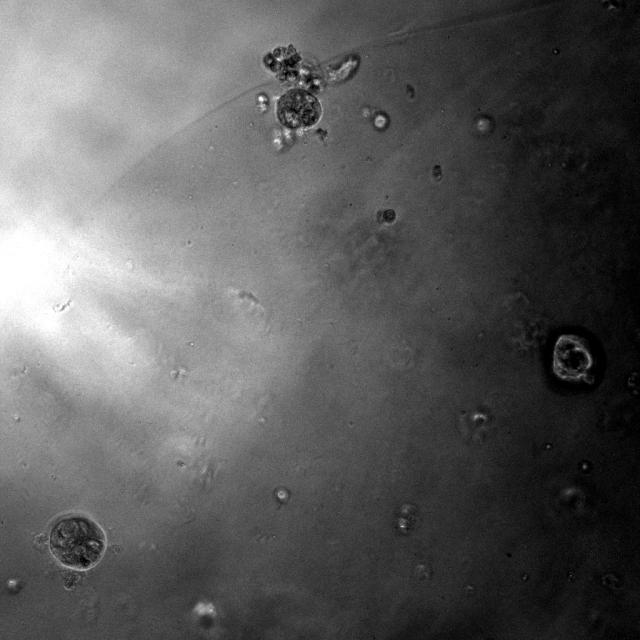organoid: (256, 44, 359, 150), (48, 513, 106, 589), (552, 334, 592, 385), (362, 109, 389, 130), (376, 209, 396, 225), (431, 165, 442, 182)
